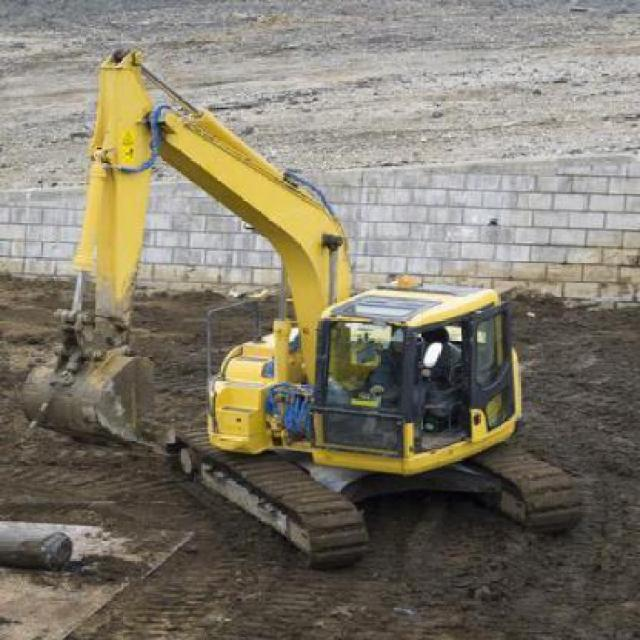Excavator: (22, 48, 575, 561)
